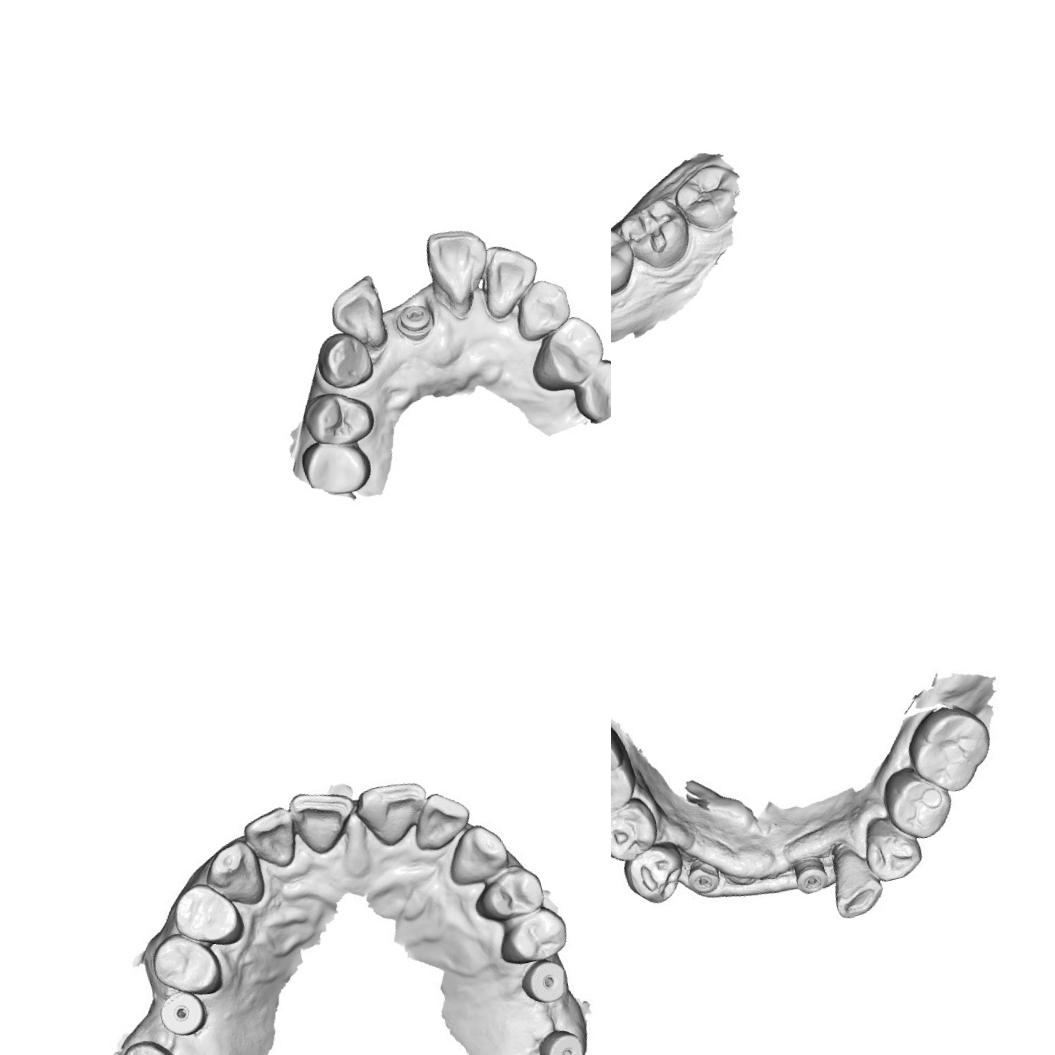canine: (438, 817, 516, 893), (196, 834, 270, 914), (818, 837, 886, 922), (506, 273, 576, 344), (310, 324, 378, 395)
implant: (518, 954, 575, 1014), (153, 985, 212, 1041), (530, 1018, 598, 1055), (790, 852, 830, 899)
implant_minus: (390, 297, 439, 346), (684, 857, 722, 902)
incisor: (417, 220, 502, 326), (282, 778, 364, 862), (470, 236, 548, 322), (353, 774, 435, 851), (321, 271, 392, 357), (404, 785, 475, 856), (238, 803, 302, 876)
inlay: (622, 198, 686, 262)
molar: (903, 696, 1005, 802), (666, 156, 748, 238), (611, 707, 639, 829), (104, 1028, 207, 1055), (611, 221, 643, 307)
premolar: (873, 755, 962, 849), (519, 308, 611, 396), (466, 858, 554, 932), (853, 803, 929, 887), (488, 900, 572, 973), (294, 429, 376, 503), (296, 381, 378, 454), (148, 928, 224, 1001), (618, 839, 692, 911), (168, 878, 243, 949), (611, 793, 666, 868), (564, 352, 611, 427)
